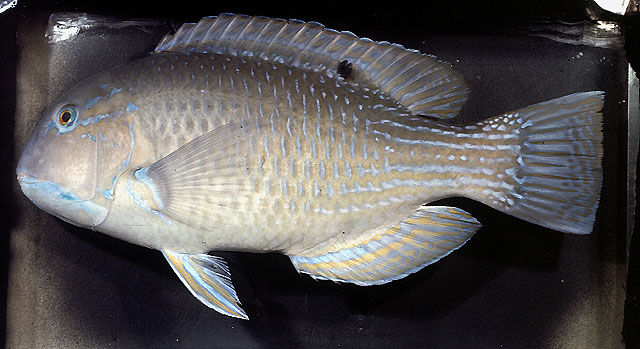fish: (16, 13, 605, 318)
